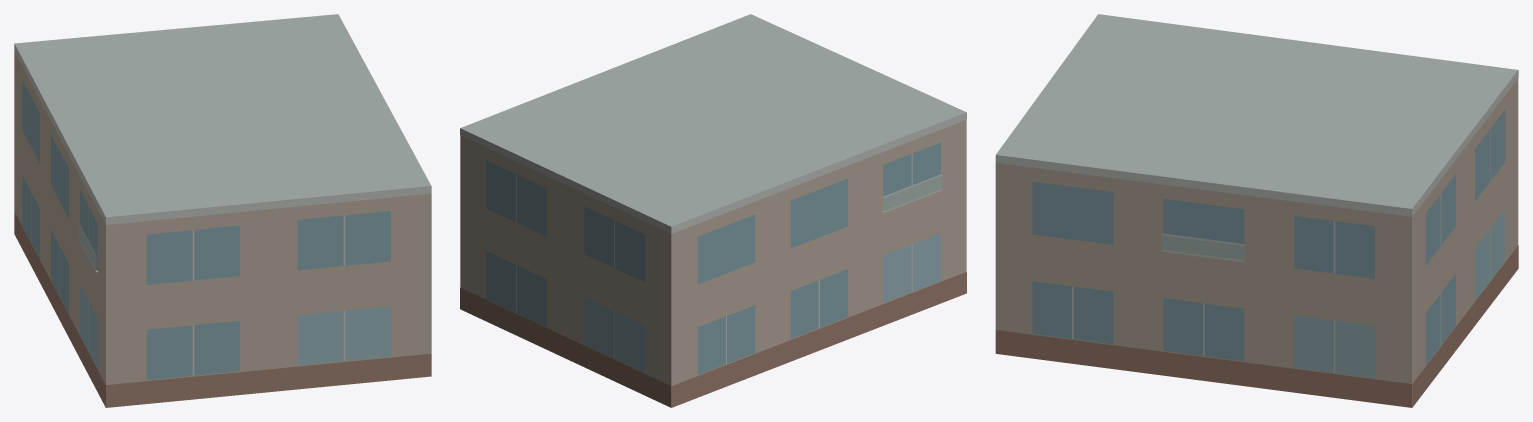
Rendered from survey-upis-32874430.glb.
3 views of the same model, side by side, from view 1: azimuth 30°, elevation 25°; view 2: azimuth 150°, elevation 25°; view 3: azimuth 270°, elevation 25° (orthographic). The views are drawn at different scales.
Visible parts, largest first — view 1: survey-upis-32874430.tmp; view 2: survey-upis-32874430.tmp; view 3: survey-upis-32874430.tmp.
Boxes of the visible parts, left/top/right/bottom form: survey-upis-32874430.tmp: left=14, top=14, right=431, bottom=407; survey-upis-32874430.tmp: left=460, top=14, right=966, bottom=407; survey-upis-32874430.tmp: left=995, top=14, right=1518, bottom=407.
Bounding box in the file's own units: 12.84 × 6.1 × 14.54.
